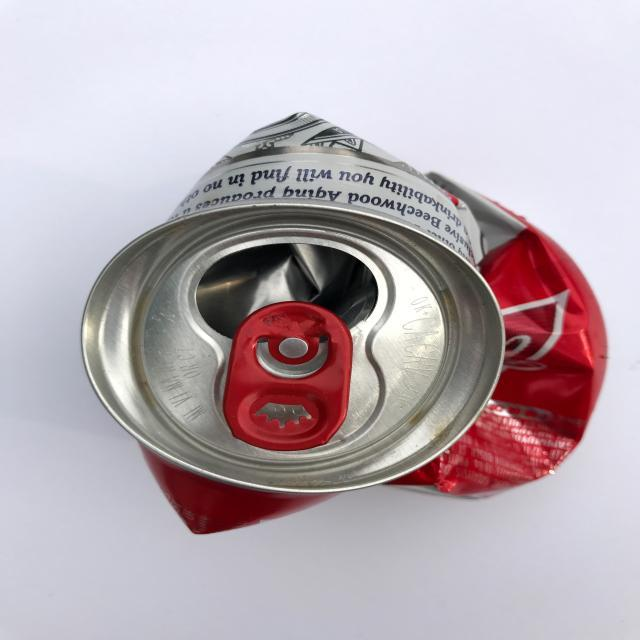metal: (79, 110, 608, 536)
